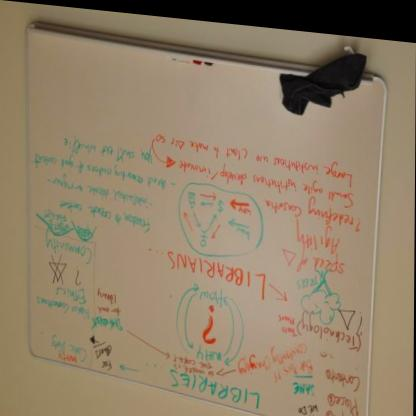Handwritten text: (153, 127, 366, 184), (172, 151, 364, 207), (29, 146, 170, 193), (158, 246, 275, 298), (48, 190, 160, 236), (161, 364, 270, 409), (43, 169, 156, 212), (291, 355, 369, 416), (234, 335, 319, 389), (57, 127, 162, 166), (258, 188, 359, 228), (294, 214, 350, 274), (292, 302, 364, 348), (34, 226, 104, 272), (34, 278, 90, 324), (41, 330, 95, 370), (167, 348, 220, 378), (94, 287, 125, 334), (85, 342, 118, 376), (194, 278, 230, 309), (190, 338, 228, 364), (278, 301, 302, 336), (234, 219, 253, 240), (237, 199, 253, 214)
Whiteboard: (3, 27, 390, 416)
